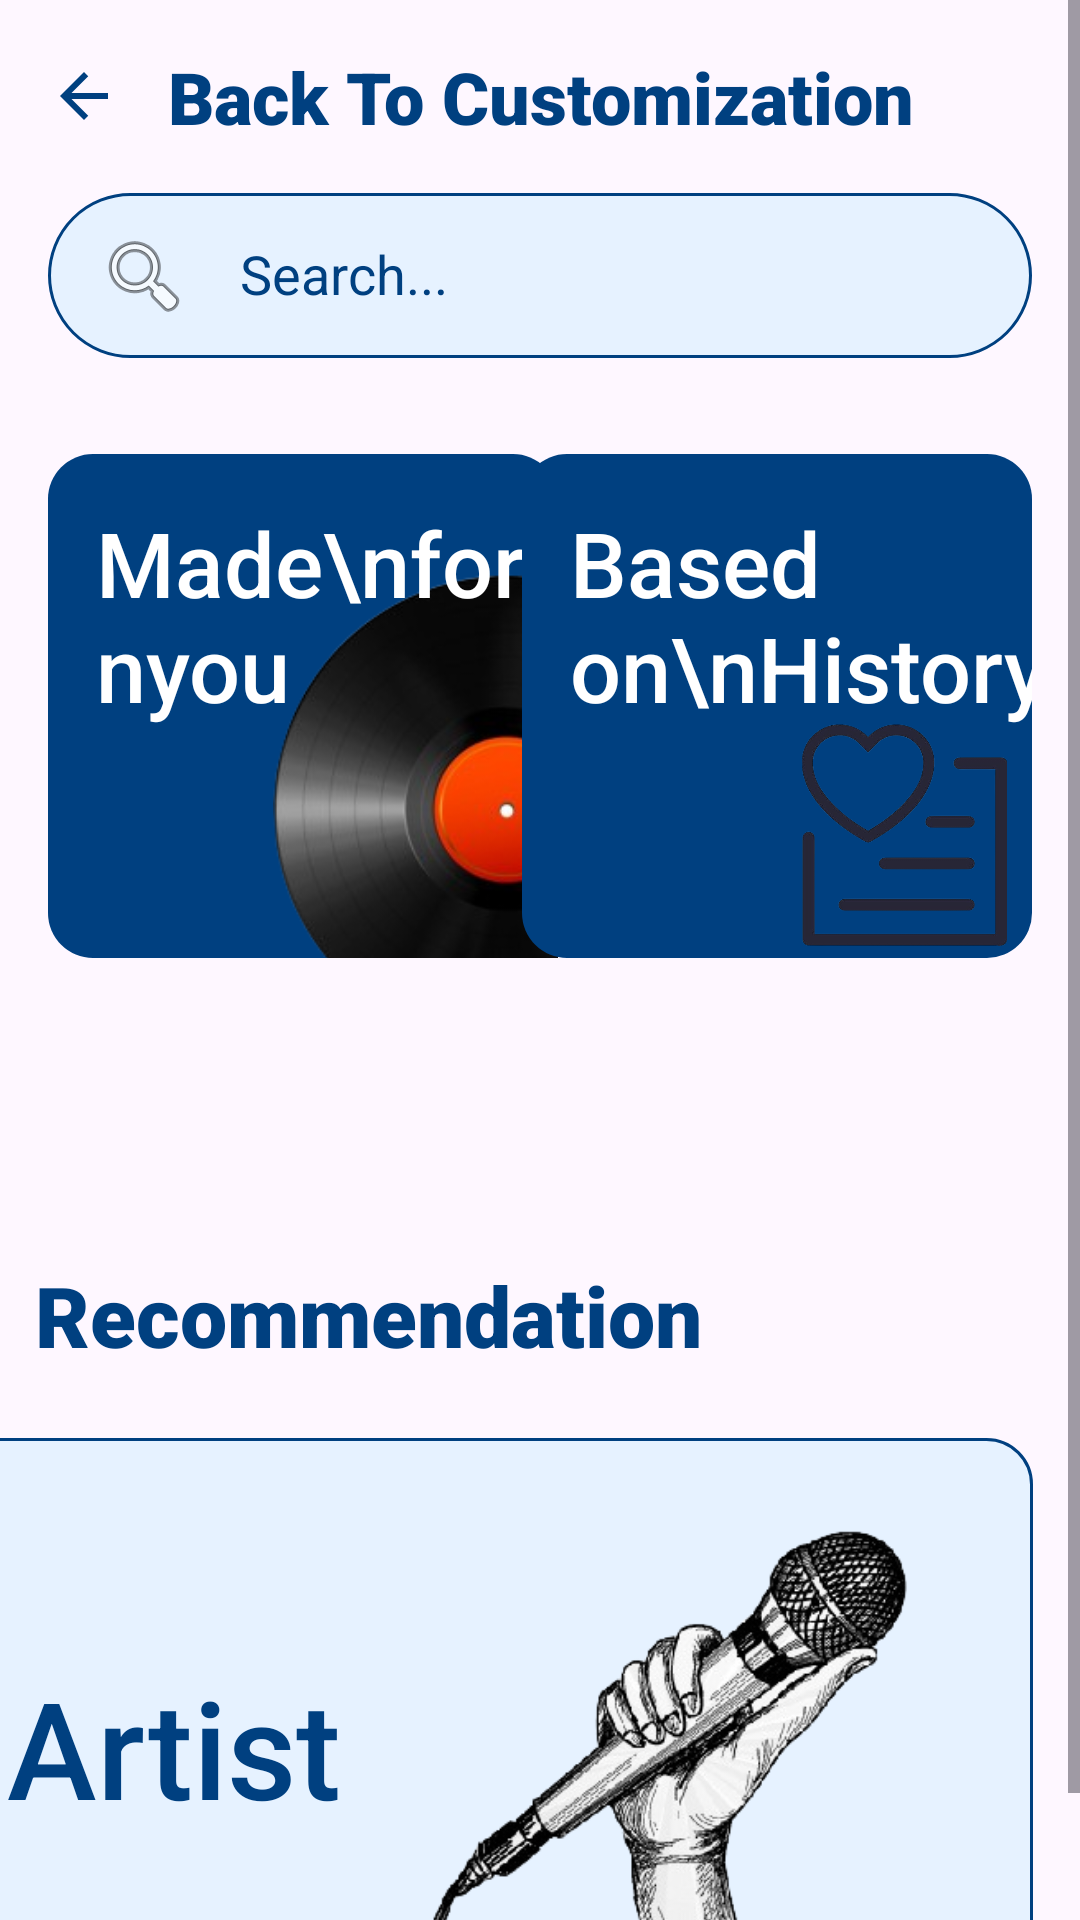

Icon bounding boxes for this 1080*1920 phone screenshot, format (x1, y1, x2, y2):
list: (802, 724, 1007, 946)
